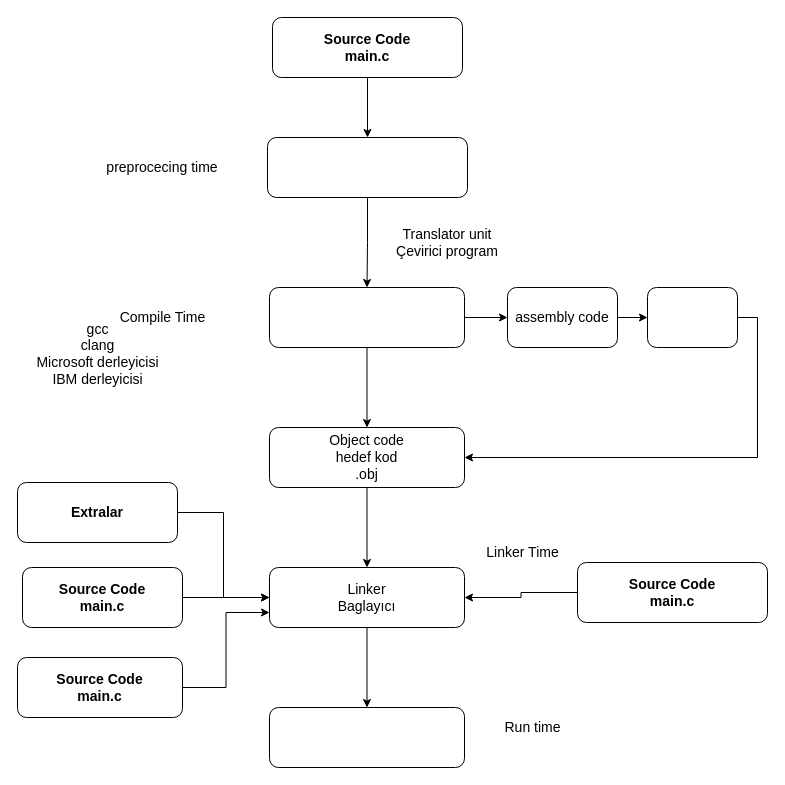
This 785x785 diagram has some shape labels left out. The centre of each missing label's shape, as x and y in pixels:
"assembler" belongs at [692,317].
"Compiler Derleyici" belongs at [366,317].
"preprocessor önişlemci" belongs at [367,167].
"Çalıştırılavilir dosya çıkartıyor" belongs at [366,737].
